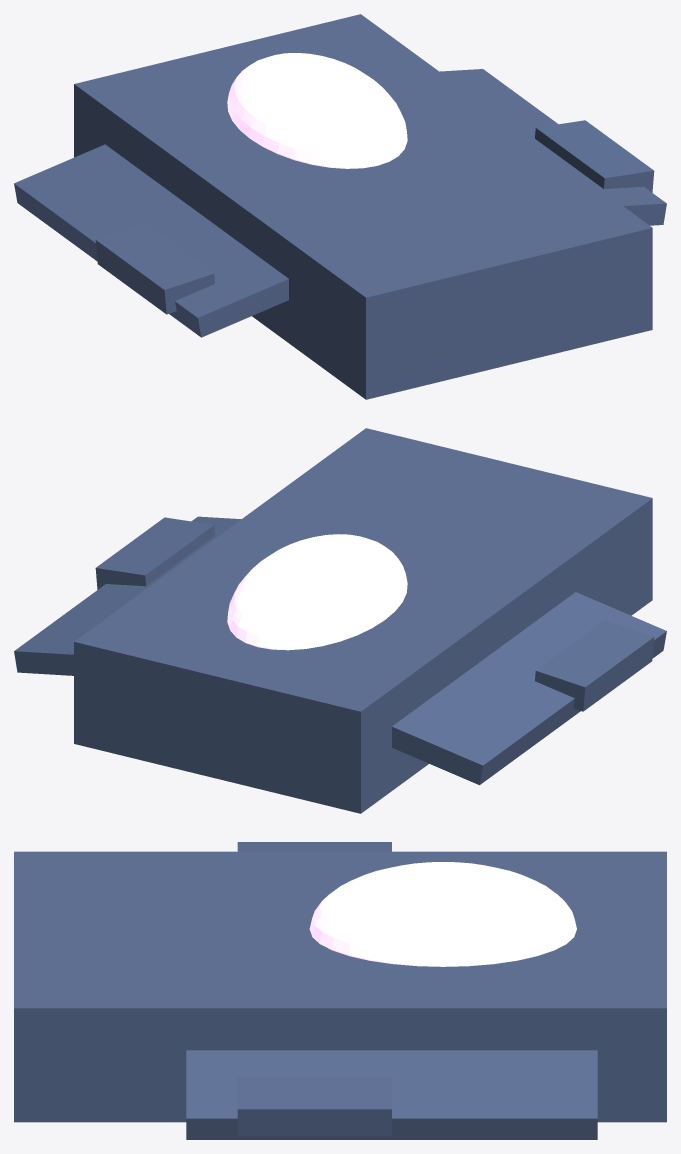
File: warden_t2.glb
3 renders of one model, top to bottom at view 1: azimuth 30°, elevation 25°; view 2: azimuth 150°, elevation 25°; view 3: azimuth 270°, elevation 25°, orthographic. The views are drawn at different scales.
Parts seen in each view (by area): view 1: Cube, Cube.002, Sphere, Cube.006, Cube.001, Cube.005; view 2: Cube, Cube.002, Sphere, Cube.006, Cube.001, Cube.005; view 3: Cube, Cube.001, Sphere, Cube.005, Cube.006.
Boxes of the visible parts, x1,y1,x2,y2 form: Cube: (74, 14, 652, 399); Cube.002: (14, 144, 288, 337); Sphere: (227, 53, 407, 168); Cube.006: (95, 223, 214, 314); Cube.001: (440, 69, 666, 225); Cube.005: (535, 120, 654, 192); Cube: (74, 428, 652, 813); Cube.002: (392, 592, 666, 785); Sphere: (227, 534, 407, 650); Cube.006: (535, 620, 654, 711); Cube.001: (14, 516, 241, 675); Cube.005: (95, 517, 214, 589); Cube: (14, 851, 666, 1122); Cube.001: (186, 1050, 597, 1139); Sphere: (309, 862, 576, 966); Cube.005: (237, 1077, 391, 1135); Cube.006: (237, 842, 391, 851).
Size of the model in its own units: 2.46 by 0.735 by 2.54.
